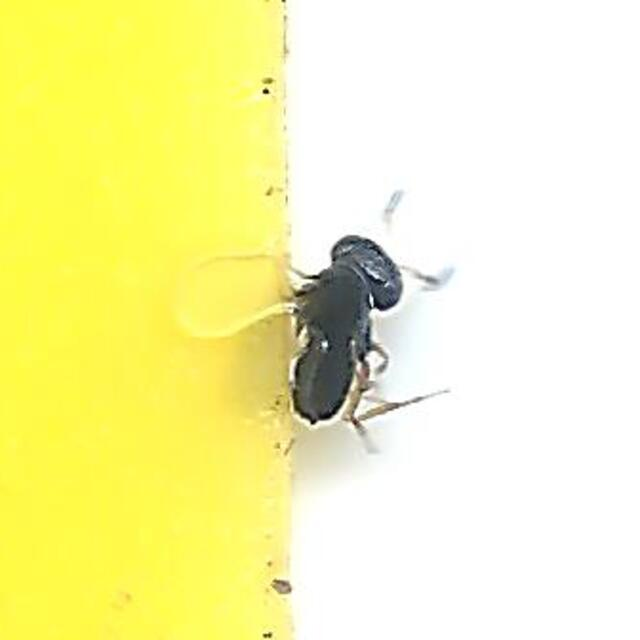Hymenoptera: (190, 199, 450, 441)
